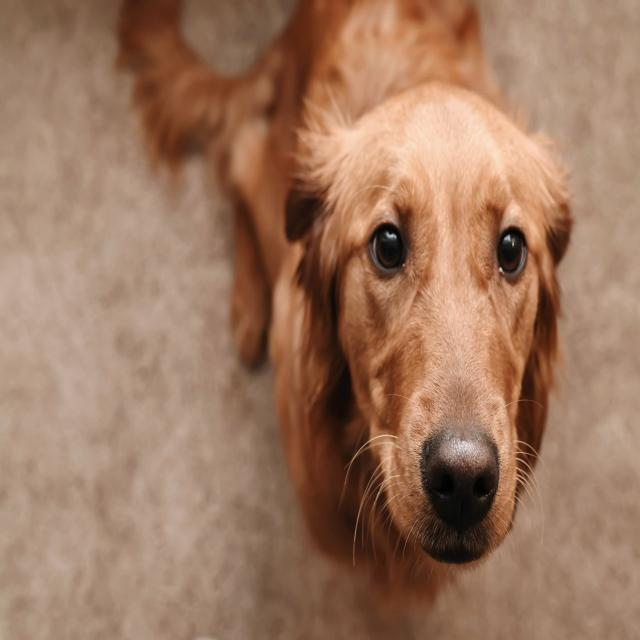dog: (117, 0, 573, 603)
